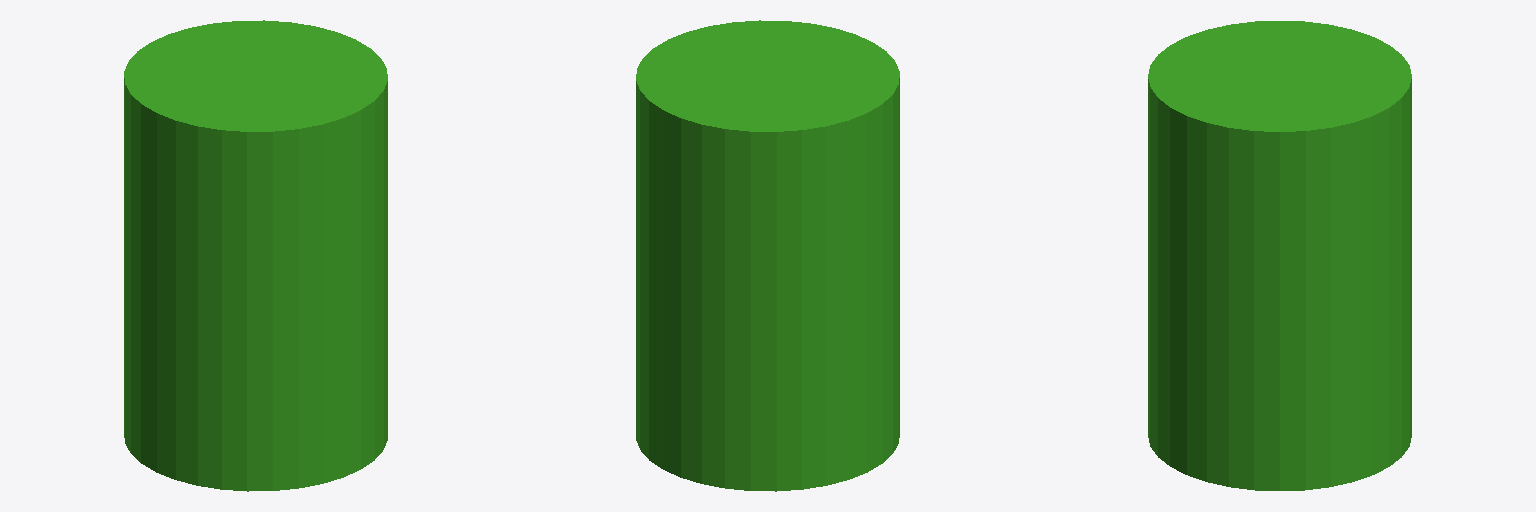
URDF robot description (green_can):
<robot name="green_can">

` <link name="can">
    <inertial>
      <mass value="0.1"/>
      <inertia ixx="1.0" ixy="0.0" ixz="0.0" iyy="1.0" iyz="0.0" izz="1.0"/>
    </inertial>
    <visual>
      <origin rpy="0 0 0" xyz="0 0 0"/>
      <geometry>
        <cylinder length="0.15" radius="0.05"/>
      </geometry>
      <material name = "green">
        <color rgba="0.3 0.7 0.2 1"/>
      </material>
    </visual>
    <collision>
      <origin rpy="0 0 0" xyz="0 0 0"/>
      <geometry>
        <cylinder length="0.15" radius="0.05"/>
      </geometry>
    </collision>
  </link>

</robot>

--- What the picture shows (computed from the rendered views, not written in the file) ---
3 views of the same robot in one strip: view 1: azimuth 30°, elevation 25°; view 2: azimuth 150°, elevation 25°; view 3: azimuth 270°, elevation 25° (orthographic).
Model green_can with 1 links and 0 joints (none), rooted at can, posed every joint at zero.
Visible links, largest first — view 1: can; view 2: can; view 3: can.
Link boxes in pixels (x1,y1,x2,y2): can: (124, 20, 387, 491); can: (636, 20, 899, 491); can: (1148, 21, 1411, 490).
Bounding box of the posed robot: 0.1 × 0.1 × 0.15 m (x, y, z).
Geometry: primitives only (box / cylinder / sphere), no mesh files.